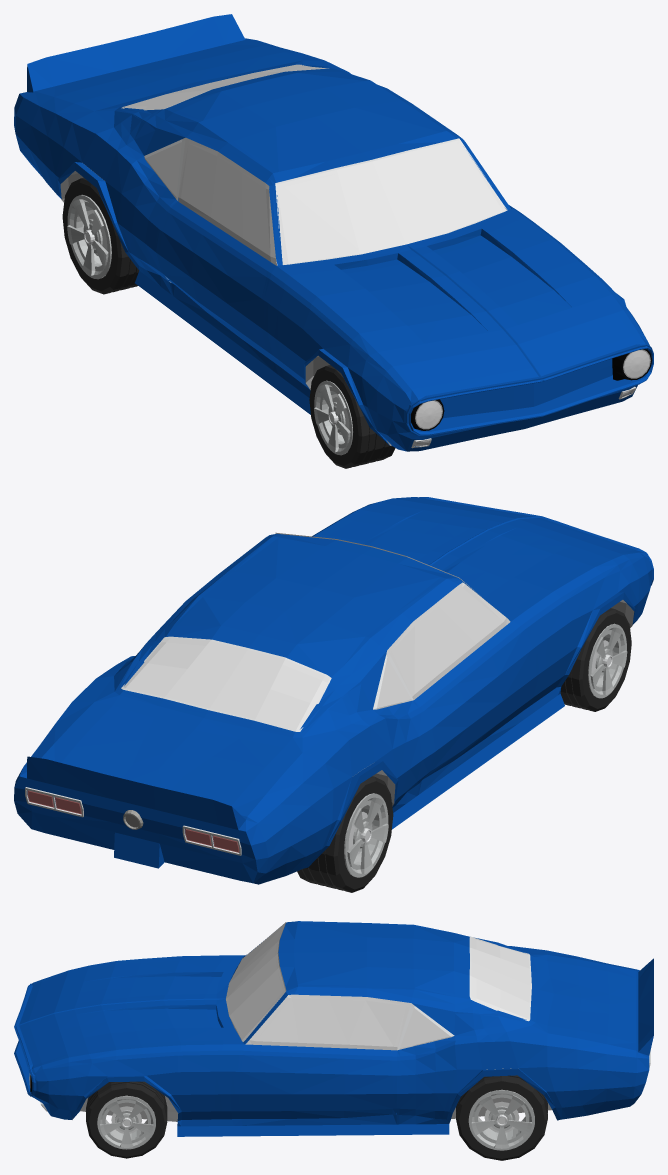
Rendered from Chevrolet_Camaro_SS_preped.fbx.
3 views of the same model, one above another, from view 1: azimuth 30°, elevation 25°; view 2: azimuth 150°, elevation 25°; view 3: azimuth 270°, elevation 25° (orthographic). The views are drawn at different scales.
Visible parts, largest first — view 1: Carroceria.001, Parabrisas_Ad, Ventana_1, Ruedas_Ad.002, Ruedas_Tr, Rin_1_Tr, Rin_1_Ad, Parabrisas_Tr, Faro_2, Ventana_2, Marco_Parabrisad_Ad, Faro_Protector; view 2: Carroceria.001, Parabrisas_Tr, Ventana_1, Ruedas_Tr, Ruedas_Ad.002, Rin_1_Tr, Rin_1_Ad, Luz_Tr, Marco_Parabrisad_Tr, Ventana_2; view 3: Carroceria.001, Ventana_1, Parabrisas_Ad, Parabrisas_Tr, Ruedas_Tr.001, Ruedas_Ad.001, Rin_1_Tr.001, Rin_1_Ad.001, Ventana_2, Marco_Ventana_2, Marco_Parabrisad_Tr, Rin_2_Tr.001.
Part boxes in pixels (<box>): Carroceria.001: <box>14,14,653,451</box>; Parabrisas_Ad: <box>277,140,506,264</box>; Ventana_1: <box>178,138,277,265</box>; Ruedas_Ad.002: <box>309,365,395,468</box>; Ruedas_Tr: <box>62,177,139,294</box>; Rin_1_Tr: <box>67,194,111,279</box>; Rin_1_Ad: <box>314,380,352,455</box>; Parabrisas_Tr: <box>124,64,326,109</box>; Faro_2: <box>416,350,649,428</box>; Ventana_2: <box>145,142,181,196</box>; Marco_Parabrisad_Ad: <box>275,138,507,264</box>; Faro_Protector: <box>411,349,652,430</box>; Carroceria.001: <box>14,497,653,884</box>; Parabrisas_Tr: <box>124,638,329,729</box>; Ventana_1: <box>387,582,510,699</box>; Ruedas_Tr: <box>297,776,393,892</box>; Ruedas_Ad.002: <box>560,608,631,711</box>; Rin_1_Tr: <box>344,793,388,877</box>; Rin_1_Ad: <box>588,623,627,698</box>; Luz_Tr: <box>25,787,241,855</box>; Marco_Parabrisad_Tr: <box>121,636,331,731</box>; Ventana_2: <box>377,658,410,708</box>; Carroceria.001: <box>14,921,653,1136</box>; Ventana_1: <box>245,994,411,1050</box>; Parabrisas_Ad: <box>226,923,285,1041</box>; Parabrisas_Tr: <box>471,937,530,1019</box>; Ruedas_Tr.001: <box>456,1075,547,1160</box>; Ruedas_Ad.001: <box>86,1081,167,1158</box>; Rin_1_Tr.001: <box>468,1089,534,1150</box>; Rin_1_Ad.001: <box>97,1095,155,1149</box>; Ventana_2: <box>400,1008,450,1047</box>; Marco_Ventana_2: <box>397,1003,454,1050</box>; Marco_Parabrisad_Tr: <box>469,936,531,1021</box>; Rin_2_Tr.001: <box>484,1101,519,1132</box>.
Size of the model in its own units: 392 by 268 by 985.
